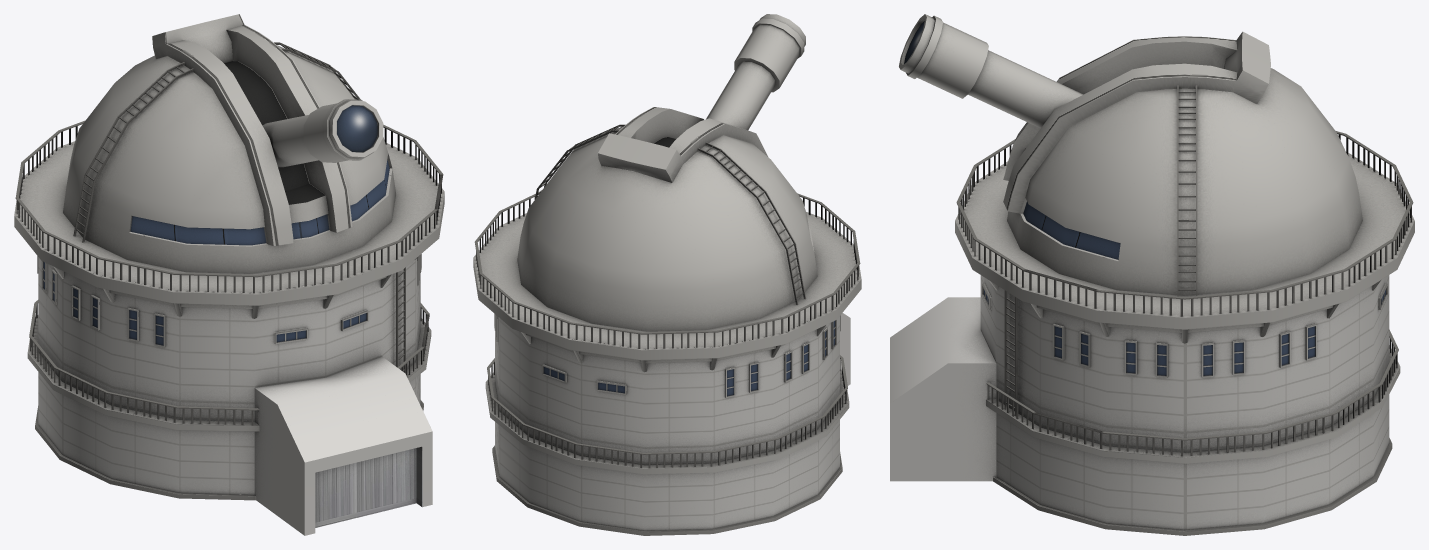
The model's file is Tower.FBX.
3 views of the same model, side by side, from view 1: azimuth 30°, elevation 25°; view 2: azimuth 150°, elevation 25°; view 3: azimuth 270°, elevation 25° (orthographic). The views are drawn at different scales.
Visible parts, largest first — view 1: main, top, target; view 2: main, top, target; view 3: main, top, target.
Part boxes in pixels (x1,y1,x2,y2): main: (14, 120, 444, 535); top: (63, 14, 395, 273); target: (262, 99, 383, 167); main: (473, 192, 861, 535); top: (517, 107, 817, 331); target: (706, 14, 805, 130); main: (890, 131, 1414, 535); top: (1003, 31, 1362, 296); target: (899, 14, 1083, 128).
Bounding box in the file's own units: 2577 × 2665 × 2941.
Materials: 1 (1 with a texture image).
